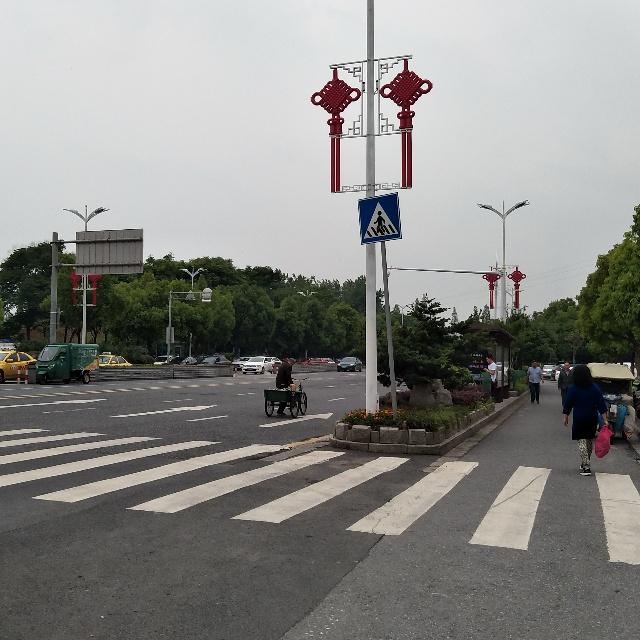crosswalk: (357, 199, 399, 242)
